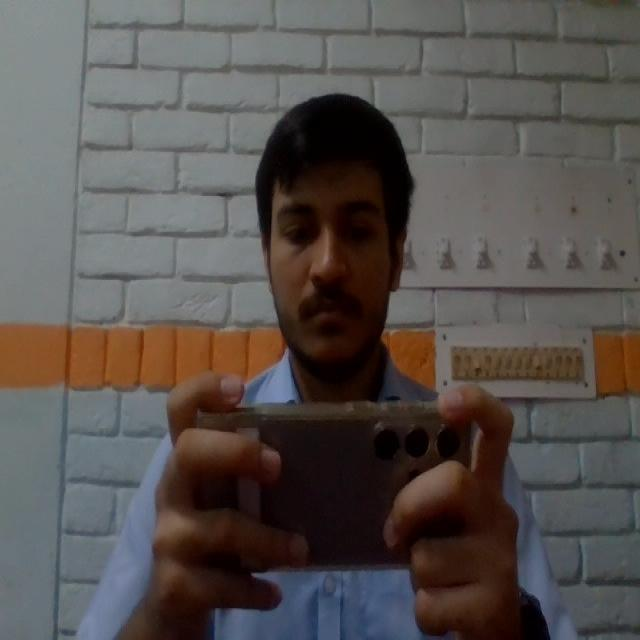phone: (184, 395, 476, 567)
using-phone: (67, 88, 596, 640)
